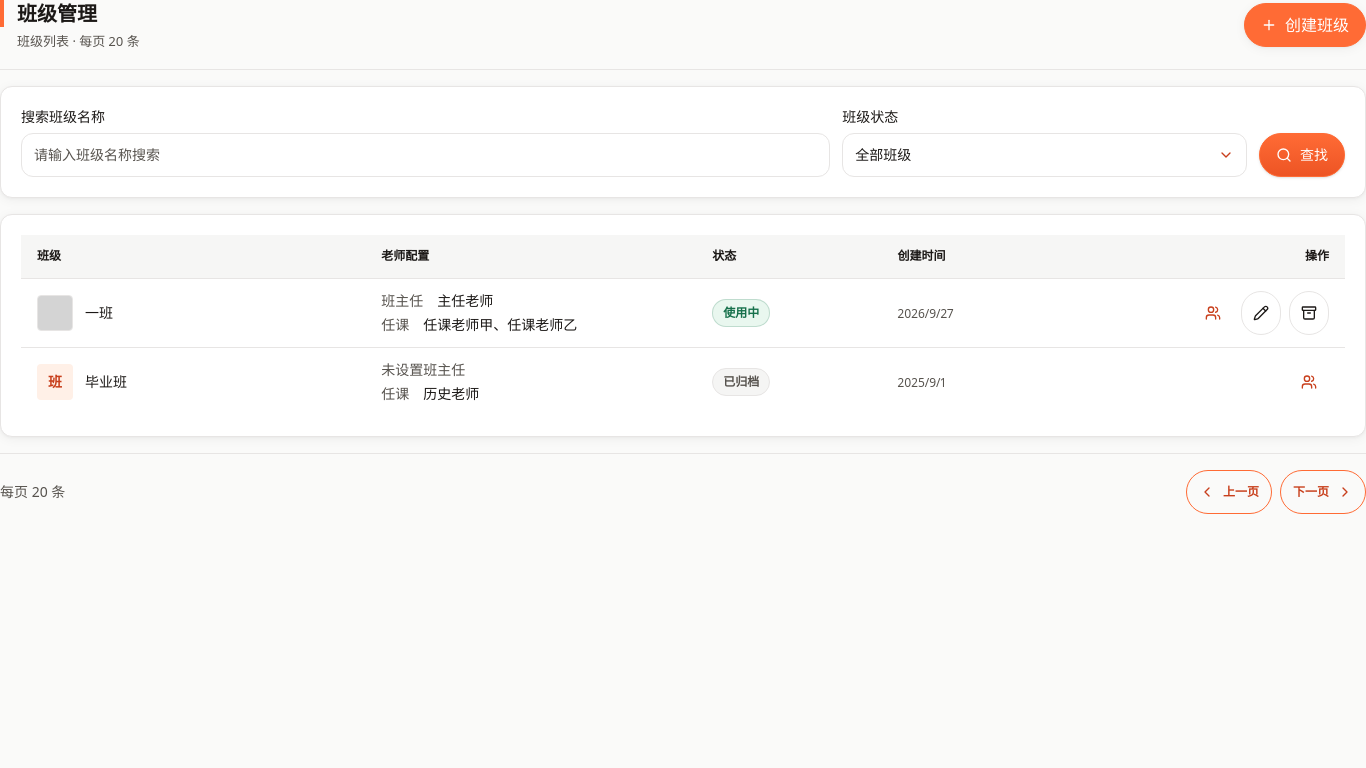
Test case: clears the uncontrolled class name and cancels without submitting
The image size is (1366, 768).
Step 1. Click the button named "编辑班级一班" → (1261, 313), box [1241,291,1281,335]
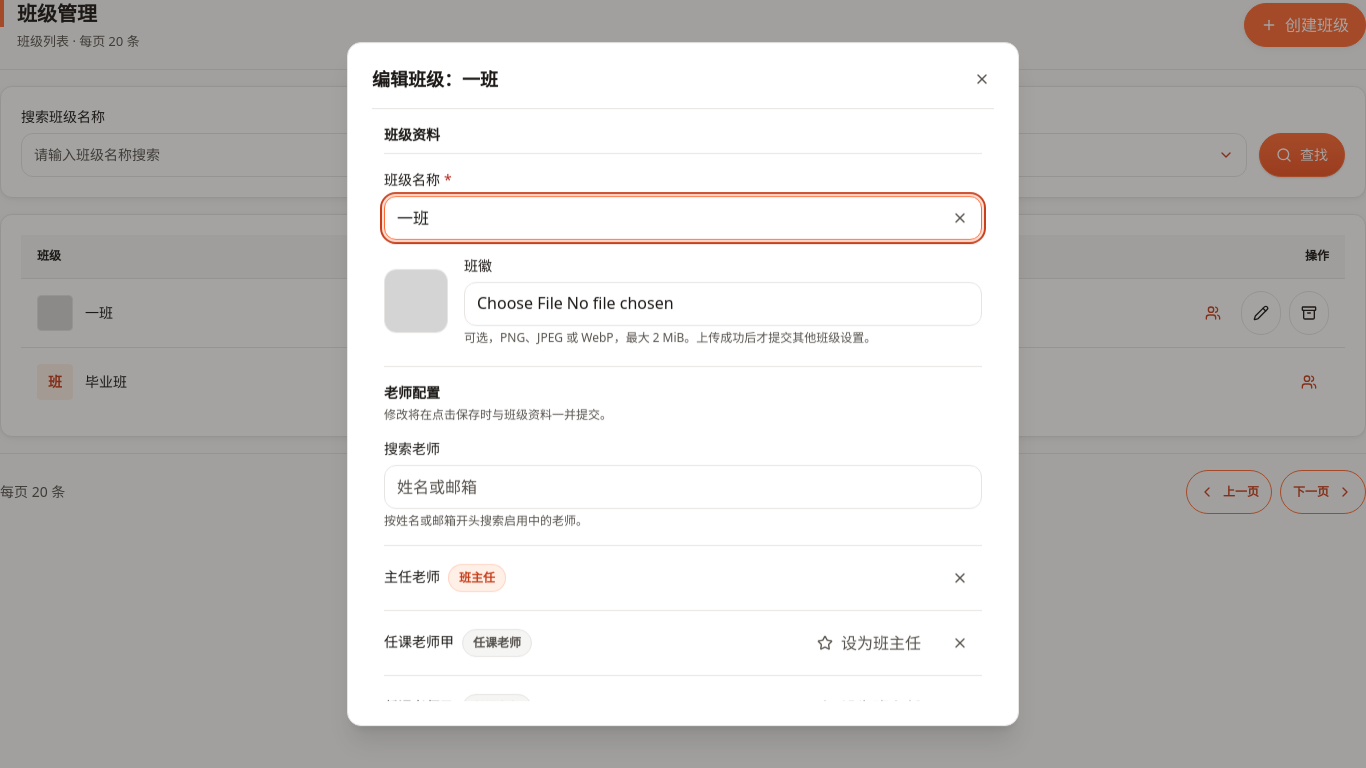
Step 2. Click the button named "清空输入内容" → (960, 218), box [942,200,978,236]
(page scrolled)
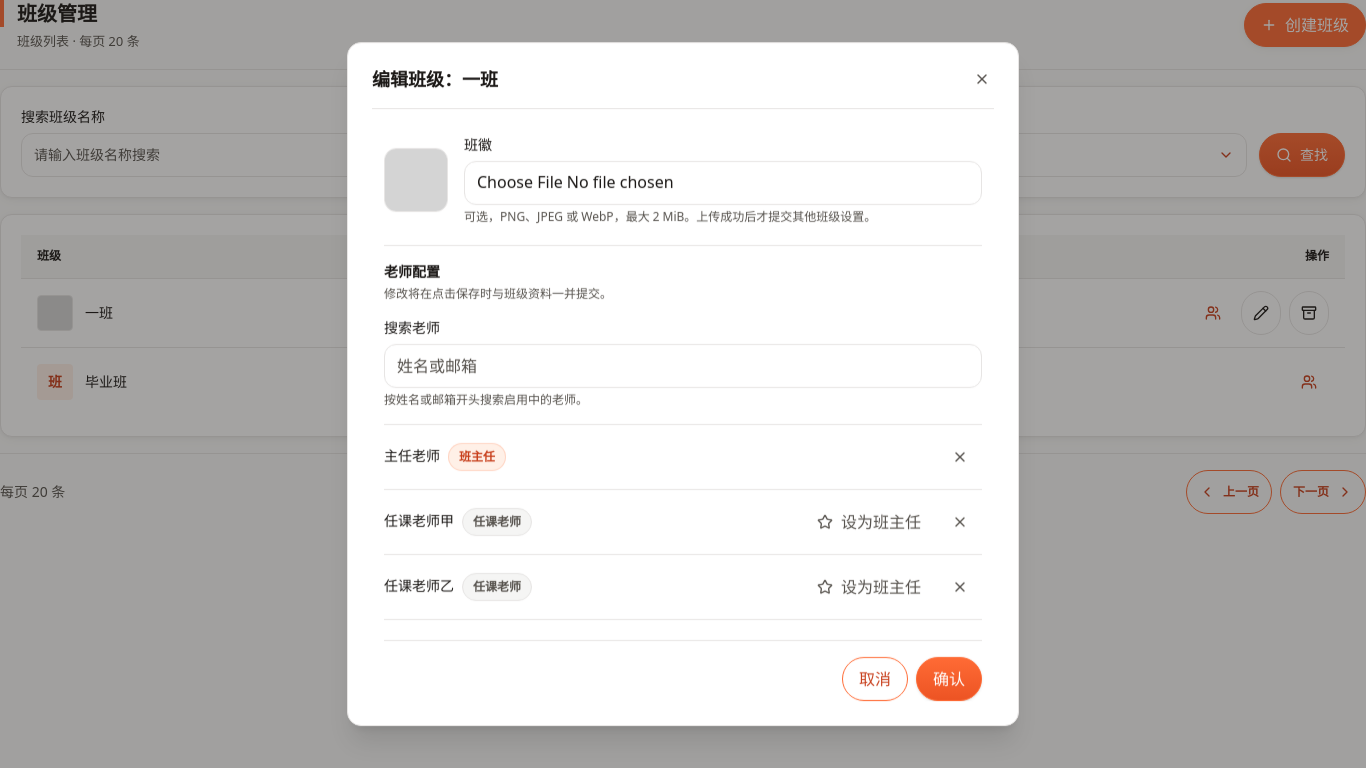
Step 3. Click the button "取消" → (875, 679), box [842,657,908,701]
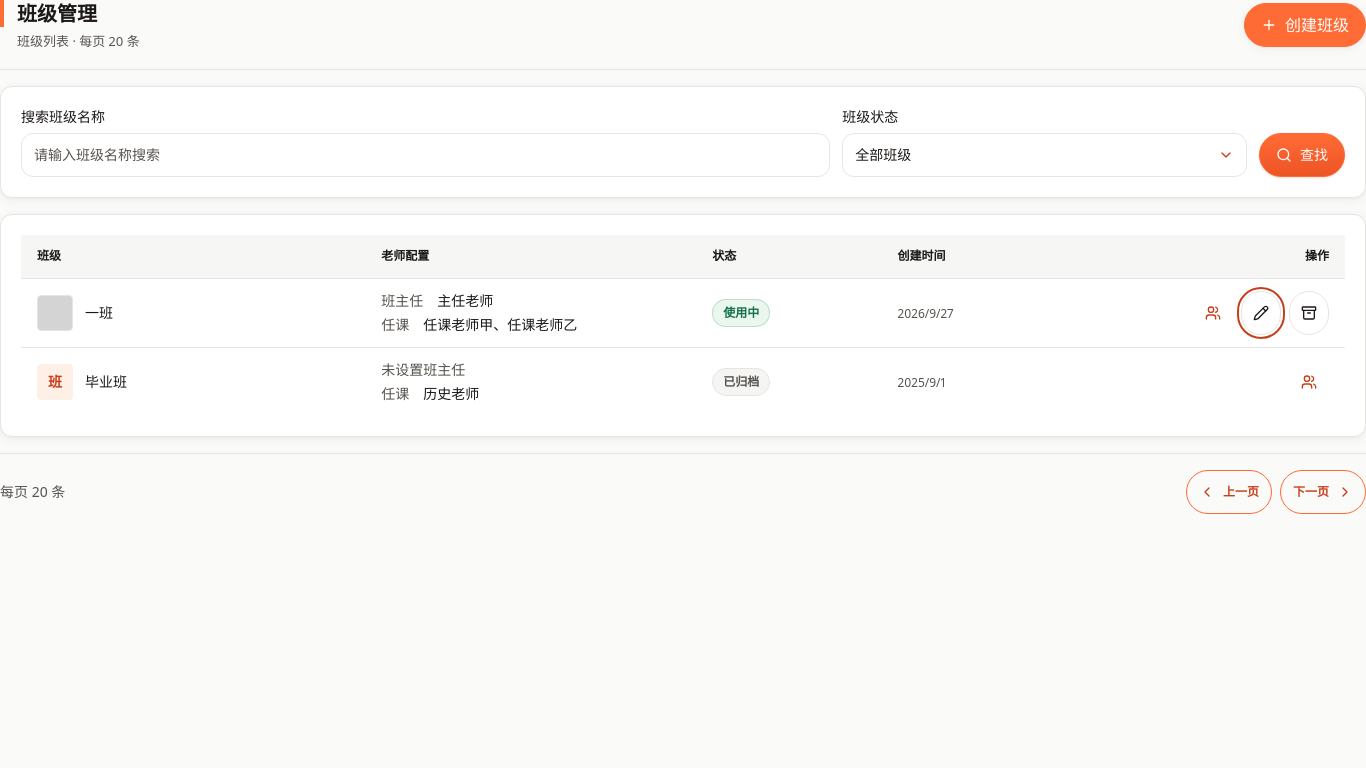
Expected: the heading "编辑班级：一班" is gone
